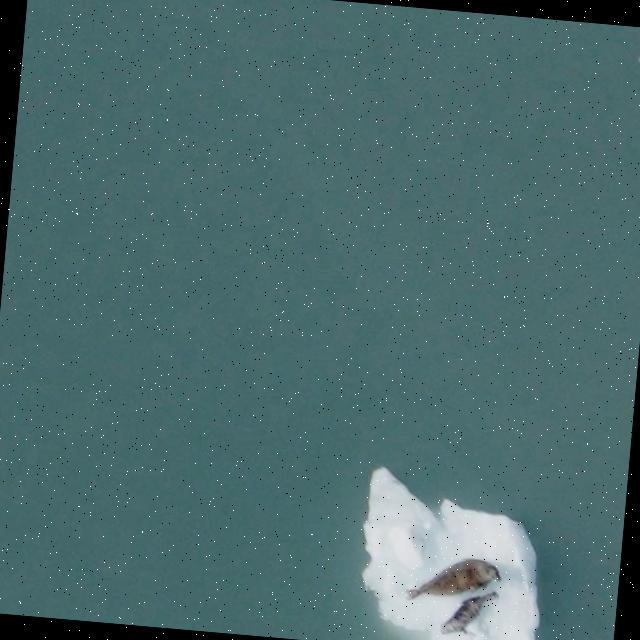seal: (407, 560, 499, 599), (441, 592, 497, 634)
